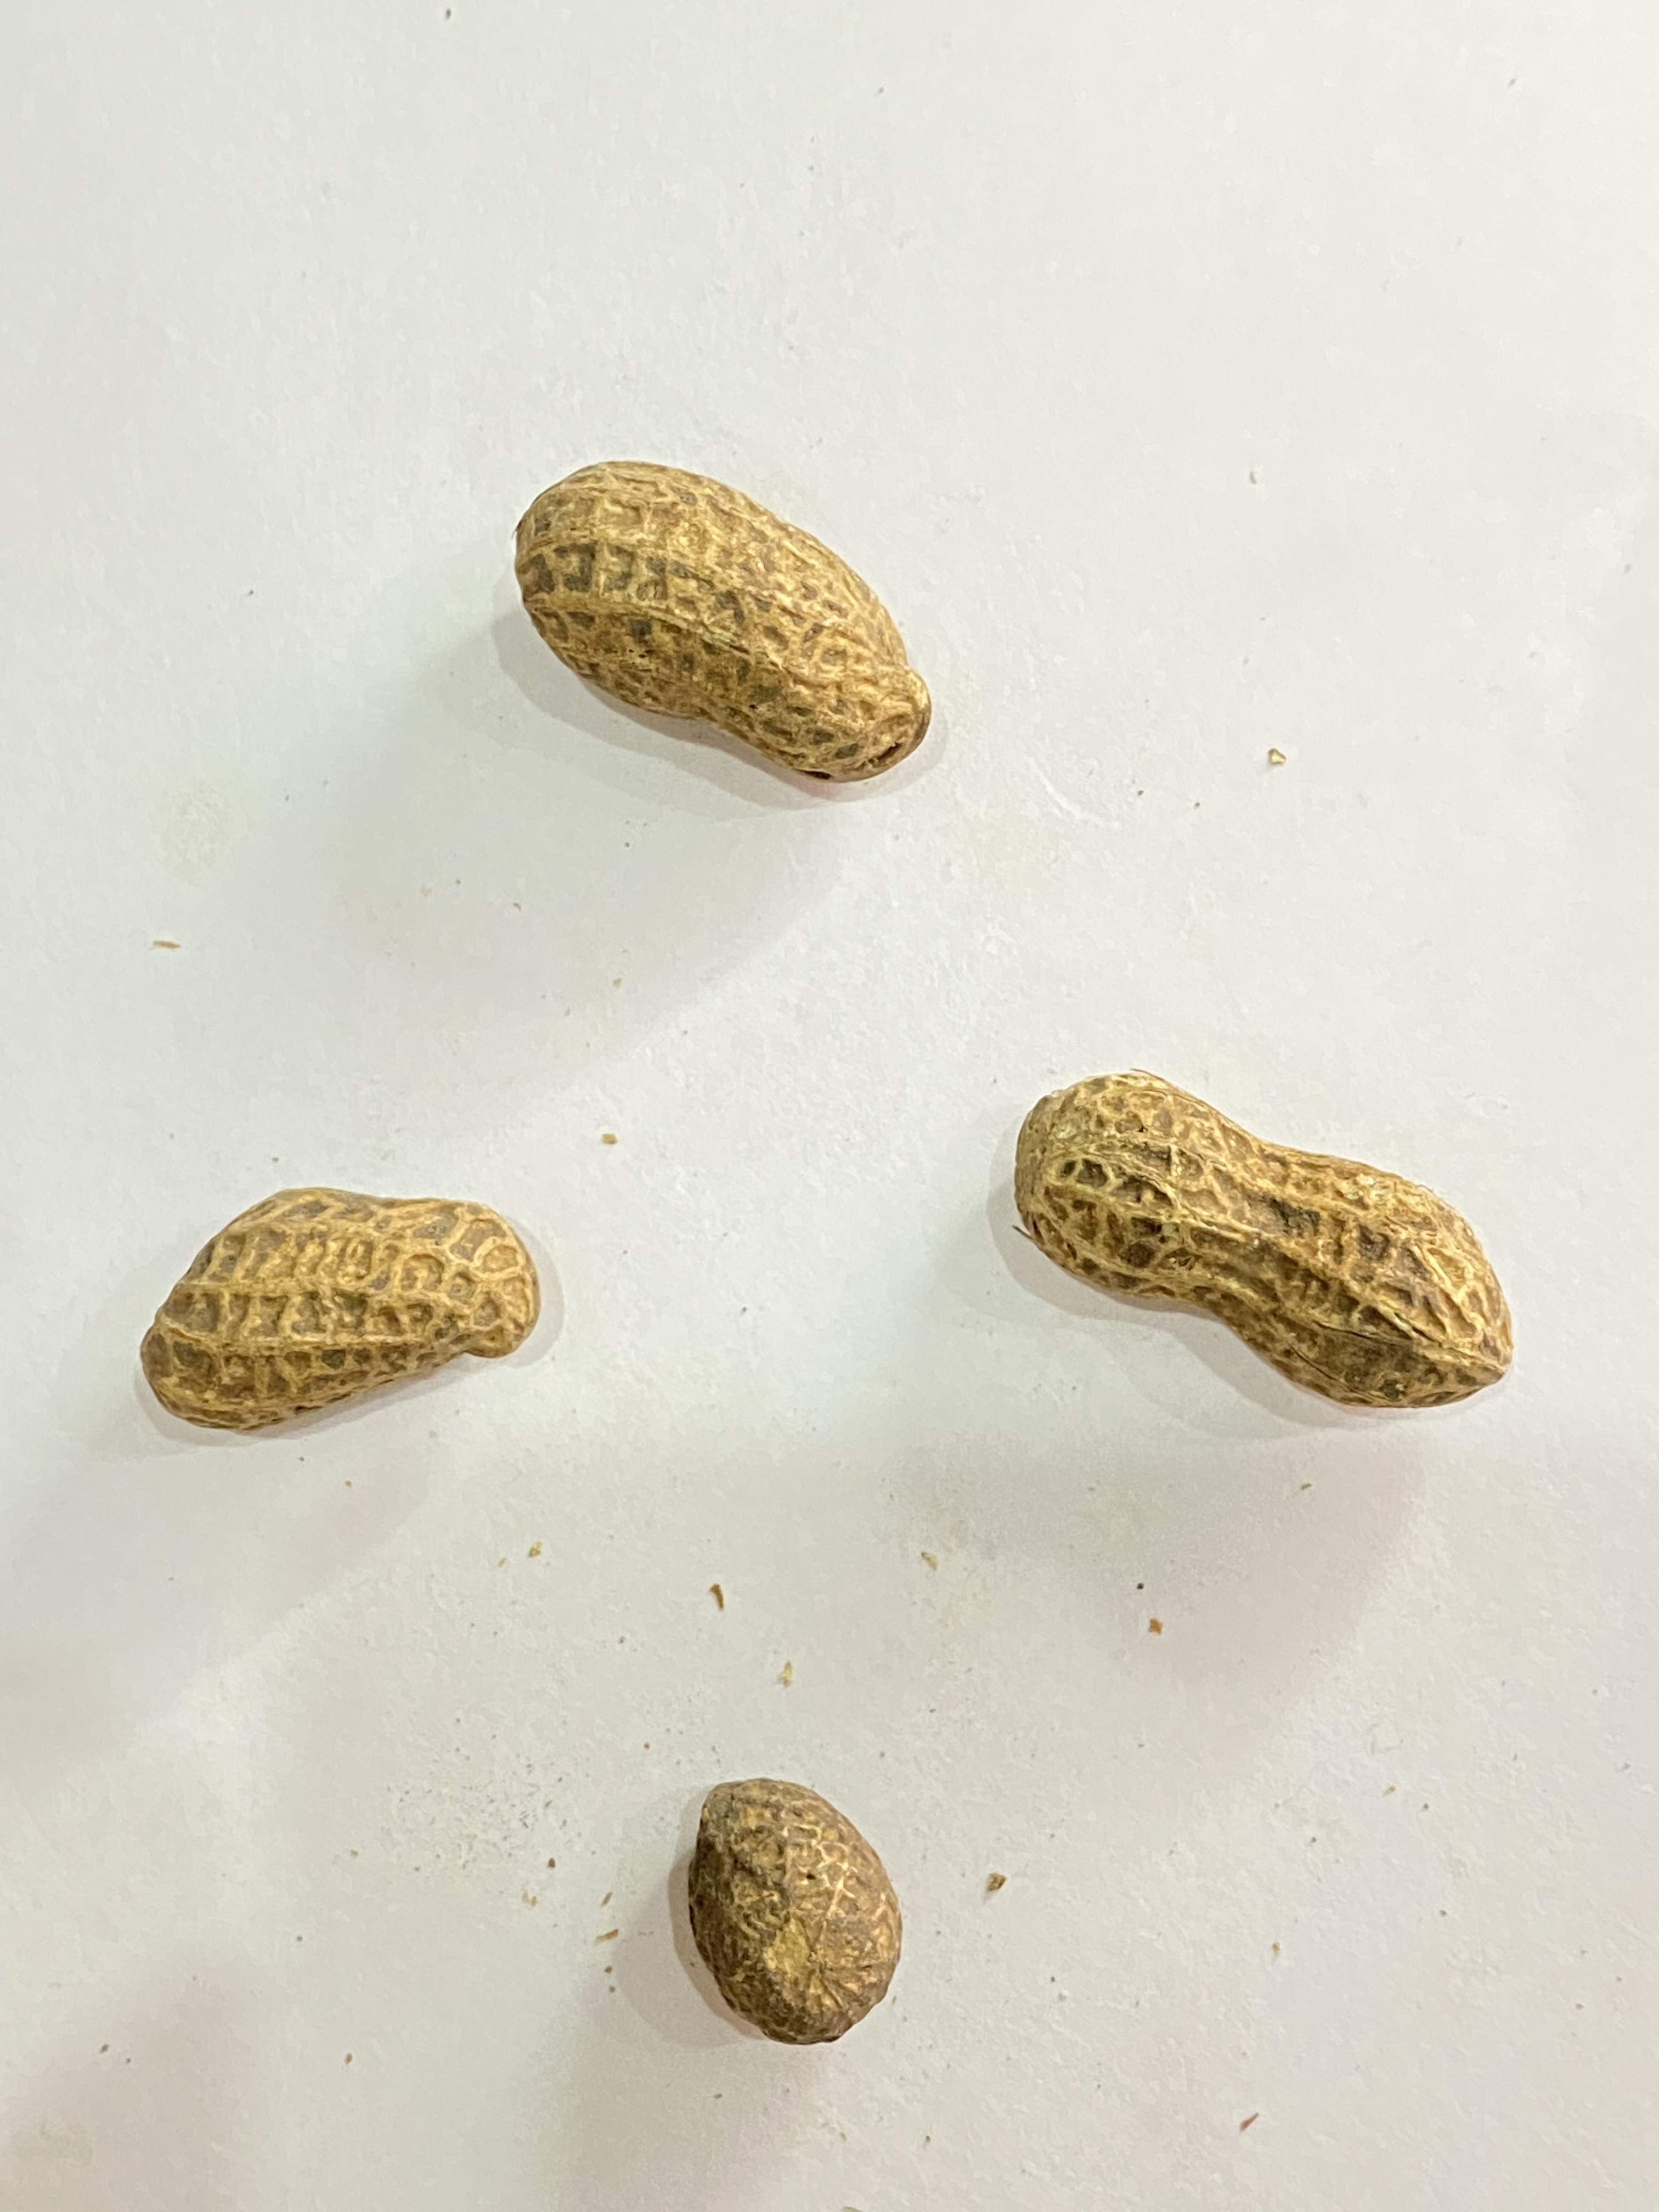kacang1: (434, 430, 1019, 798), (108, 1144, 629, 1477), (627, 1764, 934, 2069)
kacang2: (999, 965, 1520, 1477)
